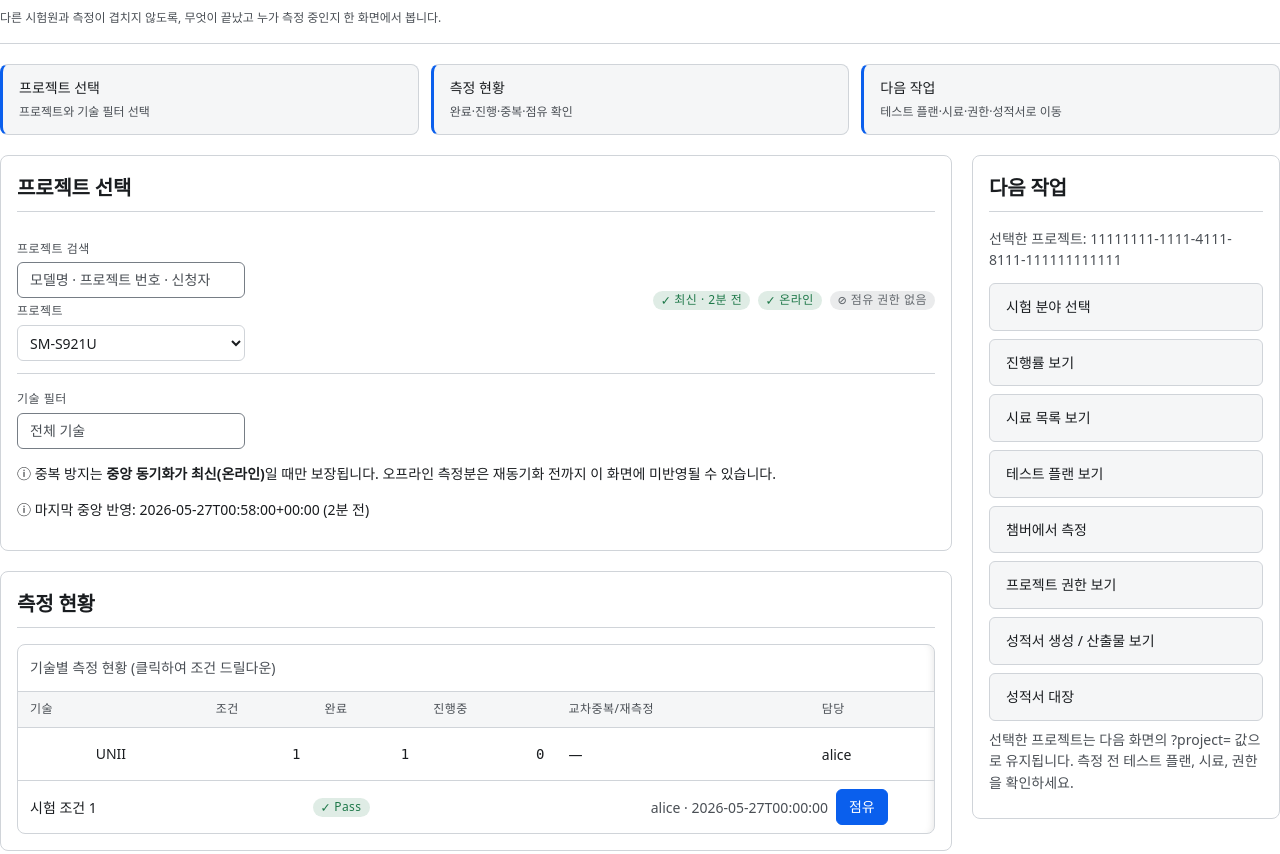
Test: FE-P3-write claim controls — RBAC visibility › surfaces a backend 403 as the forbidden claim error (membership lacking too)
The image size is (1280, 854).
Click the button with test id "condition-claim-acquire" at (862, 807), box [836,789,888,825]
(page scrolled)
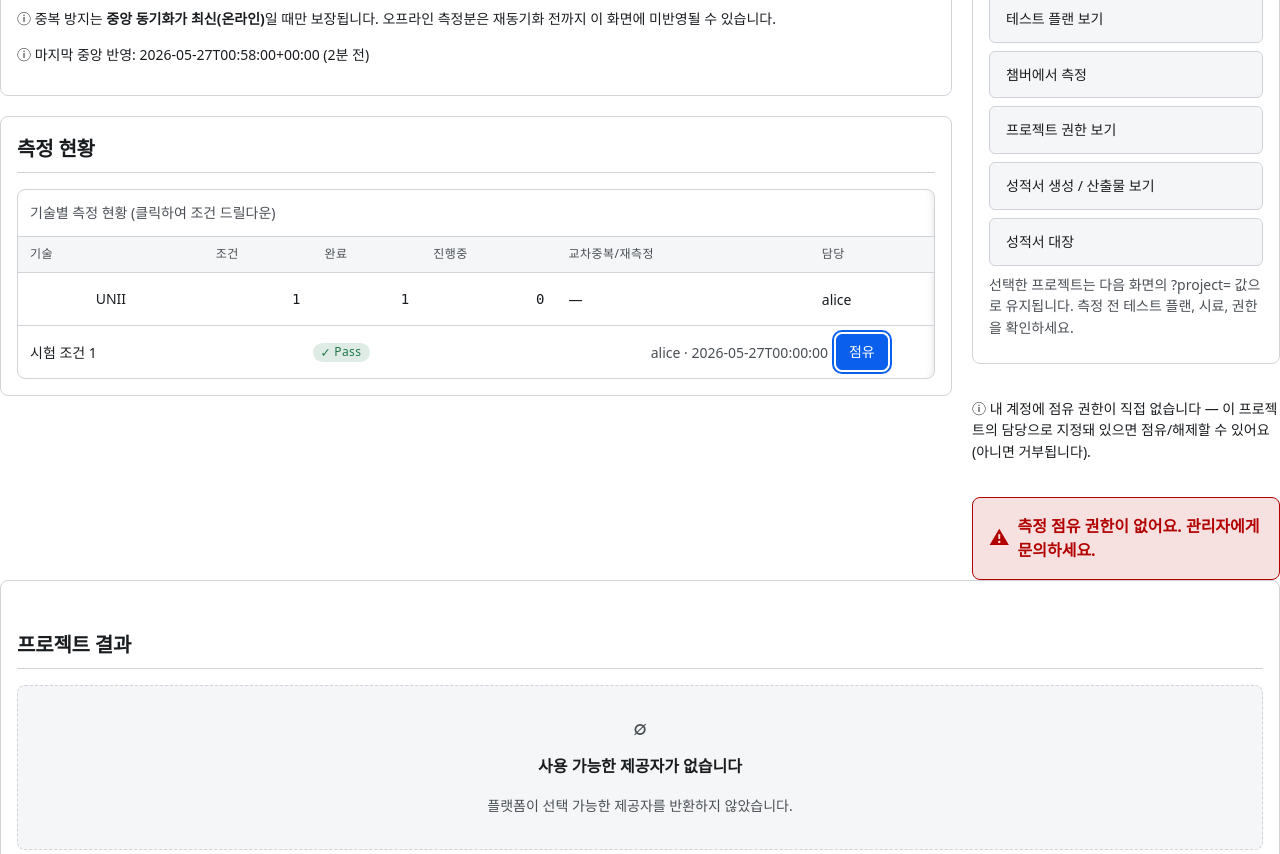
Now the message with test id "claim-error" shows "권한", box [972,497,1279,580]
